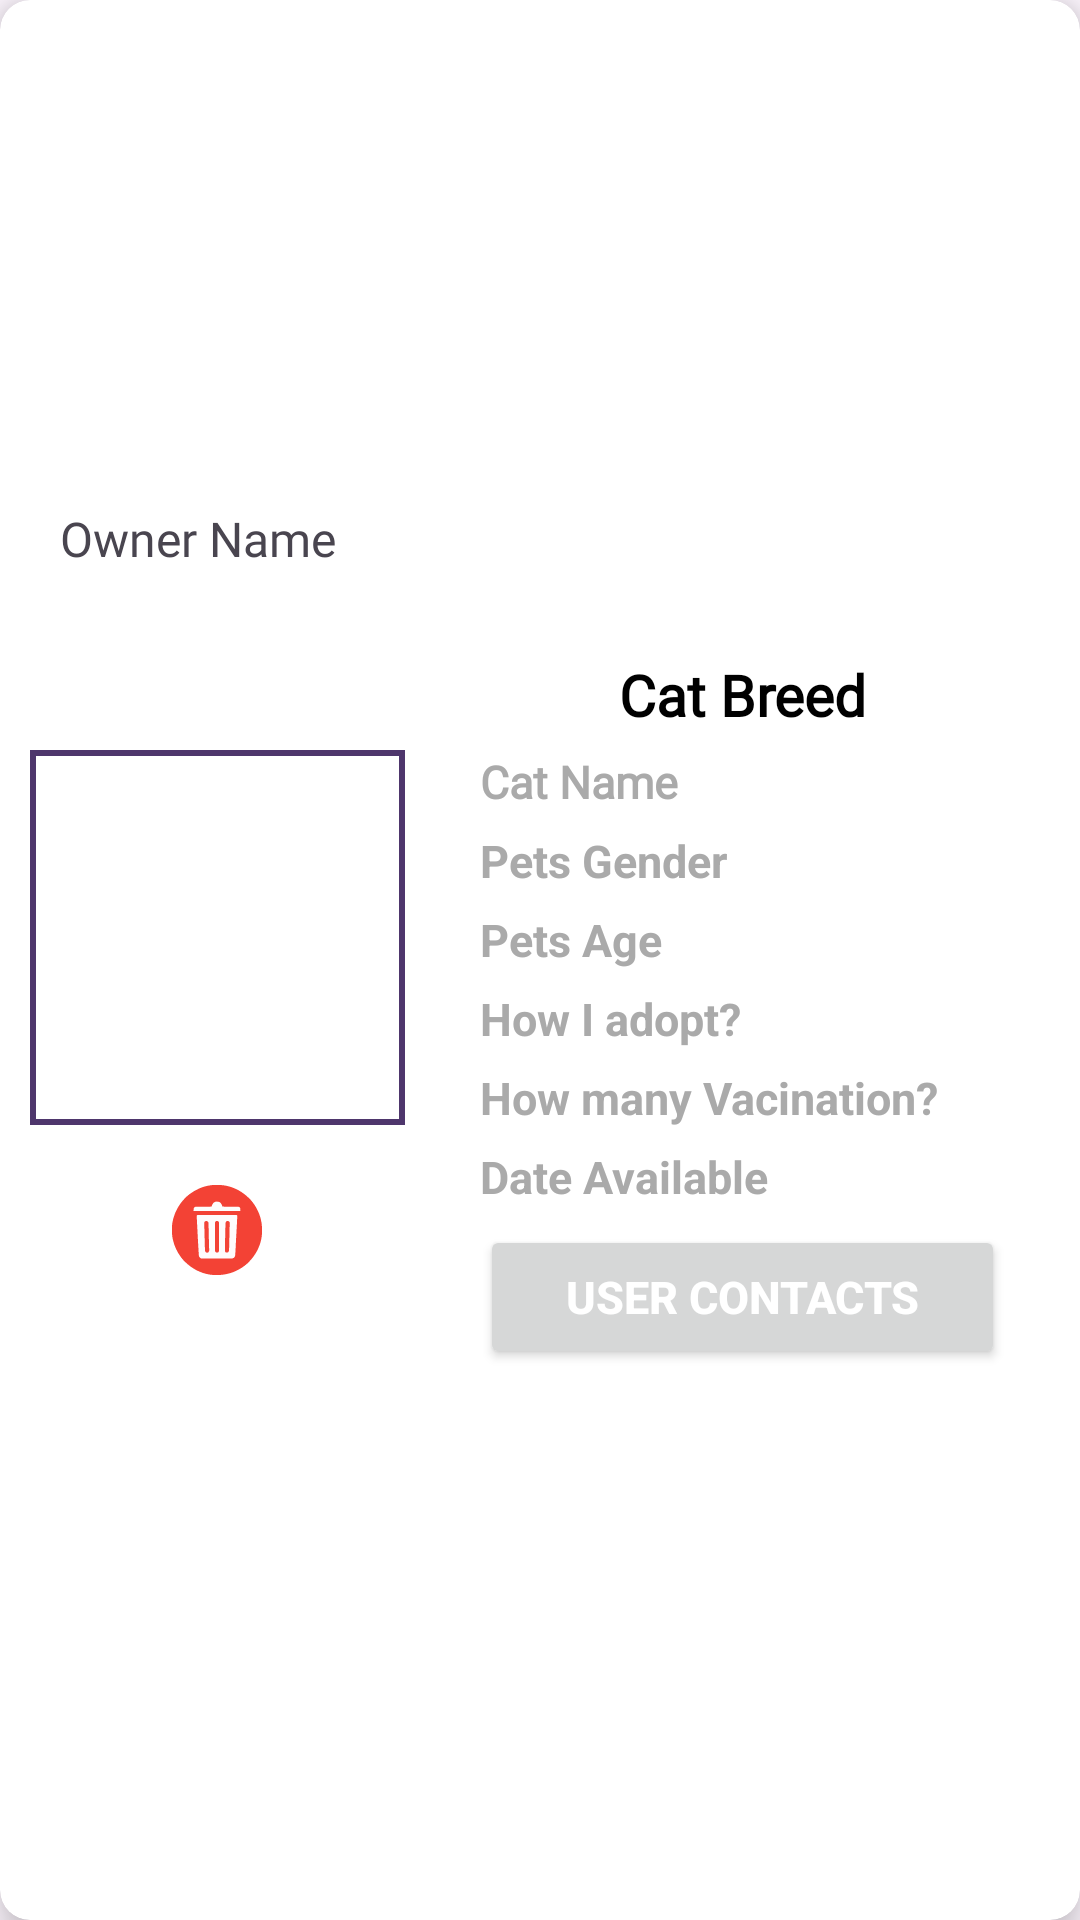

Where icons sit on this 1080 × 1920 app screen, as (x1, y1, x2, y2):
delete: (172, 1185, 262, 1275)
